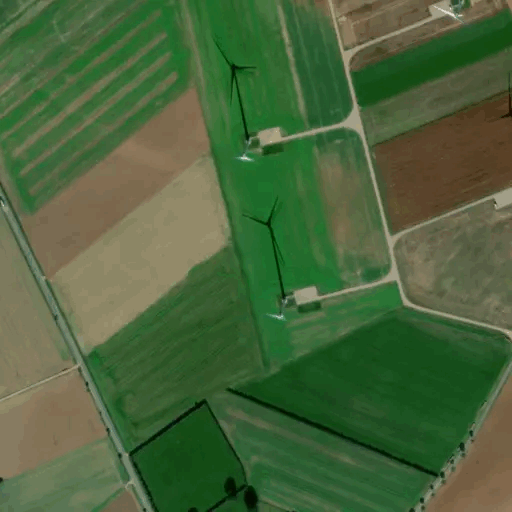wt: (236, 196, 293, 327), (210, 37, 262, 169), (427, 2, 470, 28)
